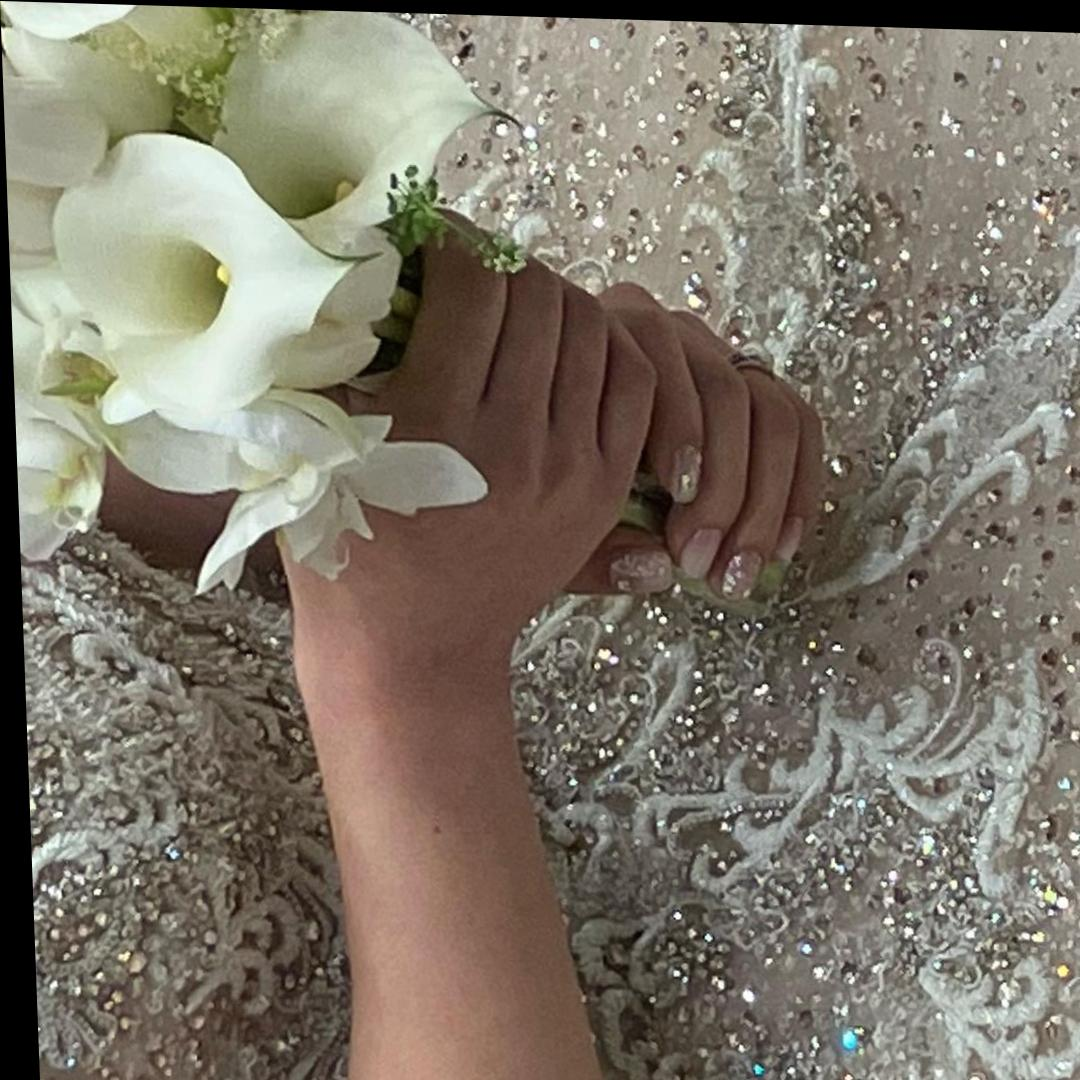nail: (677, 525, 725, 582), (665, 441, 705, 505), (719, 548, 764, 601)
